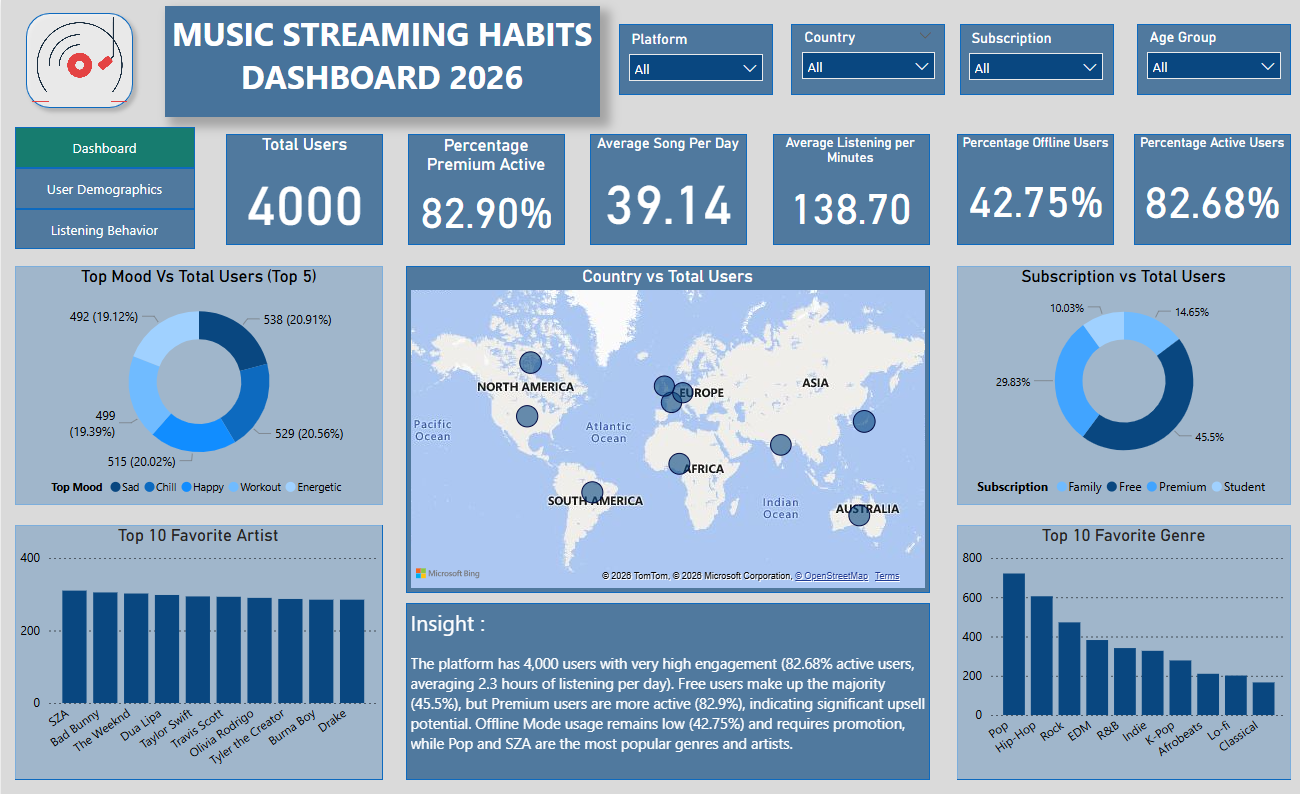

The page's visual inventory and layout, read from the dashboard file:
{"tool":"powerbi","page":{"name":"Overview Dashboard","canvas":[1300,810],"ordinal":0},"visuals":[{"type":"textbox","box":[164.1,5.8,434.8,110.9],"z":0},{"type":"shape","box":[15.8,4.3,125.2,112.3],"z":1000},{"type":"image","box":[15.8,4.3,125.2,110.9],"z":2000},{"type":"shape","box":[617.6,24.5,154,70.5],"z":3000},{"type":"shape","box":[789.6,24.1,154.4,70.5],"z":4000},{"type":"shape","box":[958.8,24.5,154,70.5],"z":5000},{"type":"shape","box":[1136,24,154,71],"z":6000},{"type":"slicer","fields":{"Values":["music_streaming_habits_2026.platform"]},"box":[618,26,154,71],"z":7000},{"type":"slicer","fields":{"Values":["music_streaming_habits_2026.country"]},"box":[791,24,153,70],"z":8000},{"type":"shape","box":[224.6,133.9,156.9,110.9],"z":9000},{"type":"shape","box":[407.4,133.9,156.9,110.9],"z":10000},{"type":"shape","box":[588.8,133.9,156.9,110.9],"z":11000},{"type":"shape","box":[771.7,133.9,156.9,110.9],"z":12000},{"type":"shape","box":[1133,133.9,156.9,110.9],"z":13000},{"type":"shape","box":[955.9,133.9,156.9,110.9],"z":14000},{"type":"shape","box":[14.4,126.7,180,41.7],"z":15000},{"type":"shape","box":[14.4,266.3,367.1,239],"z":16000},{"type":"shape","box":[14.4,168.4,180,40.3],"z":17000},{"type":"shape","box":[14.4,208.7,180,40.3],"z":18000},{"type":"shape","box":[14.4,525.5,367.1,254.8],"z":19000},{"type":"shape","box":[404.5,266.3,524,326.8],"z":20000},{"type":"shape","box":[956,266,334,239],"z":21000},{"type":"shape","box":[956,525,334,255],"z":22000},{"type":"map","title":"Country vs Total Users","fields":{"Category":["music_streaming_habits_2026.country"],"Size":["music_streaming_habits_2026.Total_Users"]},"box":[405,266,524,327],"z":23000},{"type":"shape","box":[404.5,603.2,524,177.1],"z":24000},{"type":"slicer","fields":{"Values":["music_streaming_habits_2026.subscription"]},"box":[958,25,154,70],"z":25000},{"type":"textbox","box":[405,603,525,178],"z":26000},{"type":"slicer","fields":{"Values":["music_streaming_habits_2026.age_group"]},"box":[1136,24,154,71],"z":27000},{"type":"card","title":"Total Users","fields":{"Values":["music_streaming_habits_2026.Total_Users"]},"box":[226,134,156,111],"z":28000},{"type":"donutChart","title":"Subscription vs Total Users","fields":{"Y":["music_streaming_habits_2026.Total_Users"],"Series":["music_streaming_habits_2026.subscription"]},"box":[956,266,334,239],"z":29000},{"type":"card","title":"Average Listening per Minutes","fields":{"Values":["music_streaming_habits_2026.Avg_Listening_Minutes"]},"box":[771,135,157,110],"z":30000},{"type":"card","title":"Average Song Per Day","fields":{"Values":["music_streaming_habits_2026.Avg_Songs_Per_Day"]},"box":[589,135,157,110],"z":31000},{"type":"card","title":"Percentage Premium Active","fields":{"Values":["music_streaming_habits_2026.Pct_Active_Premium"]},"box":[407,135,157,110],"z":32000},{"type":"card","title":"Percentage Offline Users","fields":{"Values":["music_streaming_habits_2026.Pct_Offline_Mode"]},"box":[956,135,158,110],"z":33000},{"type":"card","title":"Percentage Active Users","fields":{"Values":["music_streaming_habits_2026.Pct_Active_Users"]},"box":[1133,135,157,110],"z":34000},{"type":"donutChart","title":"Top Mood Vs Total Users (Top 5)","fields":{"Category":["music_streaming_habits_2026.top_mood"],"Y":["music_streaming_habits_2026.Total_Users"]},"box":[14,266,368,239],"z":35000},{"type":"columnChart","title":"Top 10 Favorite Genre","fields":{"Category":["music_streaming_habits_2026.top_genre"],"Y":["music_streaming_habits_2026.Total_Users"]},"box":[956,525,334,254],"z":36000},{"type":"columnChart","title":"Top 10 Favorite Artist","fields":{"Y":["music_streaming_habits_2026.Total_Users"],"Category":["music_streaming_habits_2026.top_artist"]},"box":[14,525,367,254],"z":37000}]}

Visuals, with their boxes in screenshot pixels (x1, y1, x2, y2), scaled from the page's 1300x810 canvas onto the 1300x794 screenshot:
textbox: [left=164, top=6, right=599, bottom=114]
shape: [left=16, top=4, right=141, bottom=114]
image: [left=16, top=4, right=141, bottom=113]
shape: [left=618, top=24, right=772, bottom=93]
shape: [left=790, top=24, right=944, bottom=93]
shape: [left=959, top=24, right=1113, bottom=93]
shape: [left=1136, top=24, right=1290, bottom=93]
slicer - music_streaming_habits_2026.platform: [left=618, top=25, right=772, bottom=95]
slicer - music_streaming_habits_2026.country: [left=791, top=24, right=944, bottom=92]
shape: [left=225, top=131, right=382, bottom=240]
shape: [left=407, top=131, right=564, bottom=240]
shape: [left=589, top=131, right=746, bottom=240]
shape: [left=772, top=131, right=929, bottom=240]
shape: [left=1133, top=131, right=1290, bottom=240]
shape: [left=956, top=131, right=1113, bottom=240]
shape: [left=14, top=124, right=194, bottom=165]
shape: [left=14, top=261, right=382, bottom=495]
shape: [left=14, top=165, right=194, bottom=205]
shape: [left=14, top=205, right=194, bottom=244]
shape: [left=14, top=515, right=382, bottom=765]
shape: [left=404, top=261, right=928, bottom=581]
shape: [left=956, top=261, right=1290, bottom=495]
shape: [left=956, top=515, right=1290, bottom=765]
"Country vs Total Users" map: [left=405, top=261, right=929, bottom=581]
shape: [left=404, top=591, right=928, bottom=765]
slicer - music_streaming_habits_2026.subscription: [left=958, top=25, right=1112, bottom=93]
textbox: [left=405, top=591, right=930, bottom=766]
slicer - music_streaming_habits_2026.age_group: [left=1136, top=24, right=1290, bottom=93]
"Total Users" card: [left=226, top=131, right=382, bottom=240]
"Subscription vs Total Users" donutChart: [left=956, top=261, right=1290, bottom=495]
"Average Listening per Minutes" card: [left=771, top=132, right=928, bottom=240]
"Average Song Per Day" card: [left=589, top=132, right=746, bottom=240]
"Percentage Premium Active" card: [left=407, top=132, right=564, bottom=240]
"Percentage Offline Users" card: [left=956, top=132, right=1114, bottom=240]
"Percentage Active Users" card: [left=1133, top=132, right=1290, bottom=240]
"Top Mood Vs Total Users (Top 5)" donutChart: [left=14, top=261, right=382, bottom=495]
"Top 10 Favorite Genre" columnChart: [left=956, top=515, right=1290, bottom=764]
"Top 10 Favorite Artist" columnChart: [left=14, top=515, right=381, bottom=764]
